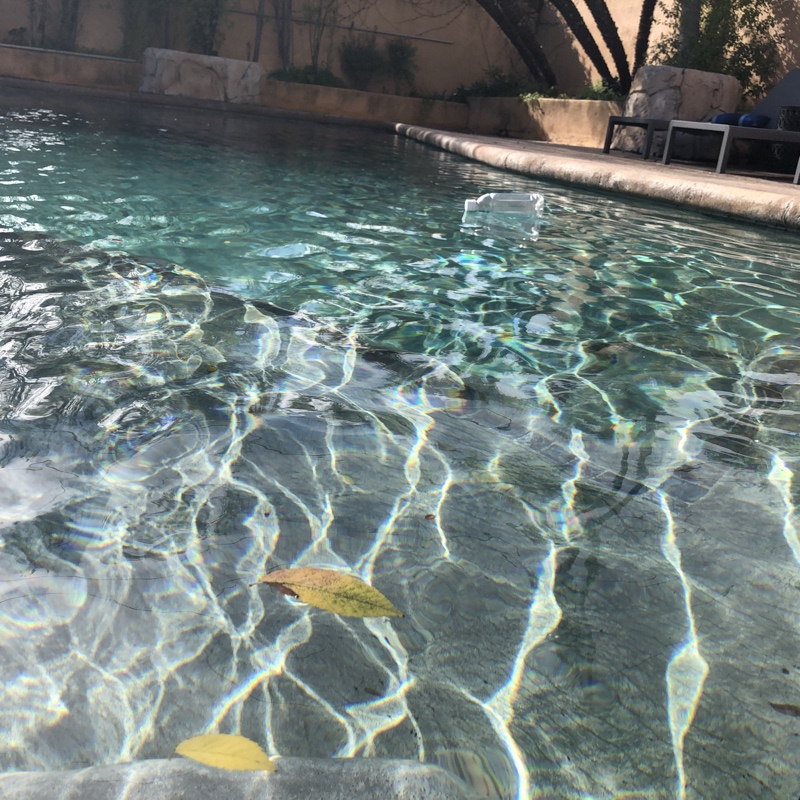Plastic Bottle: (461, 181, 547, 230)
